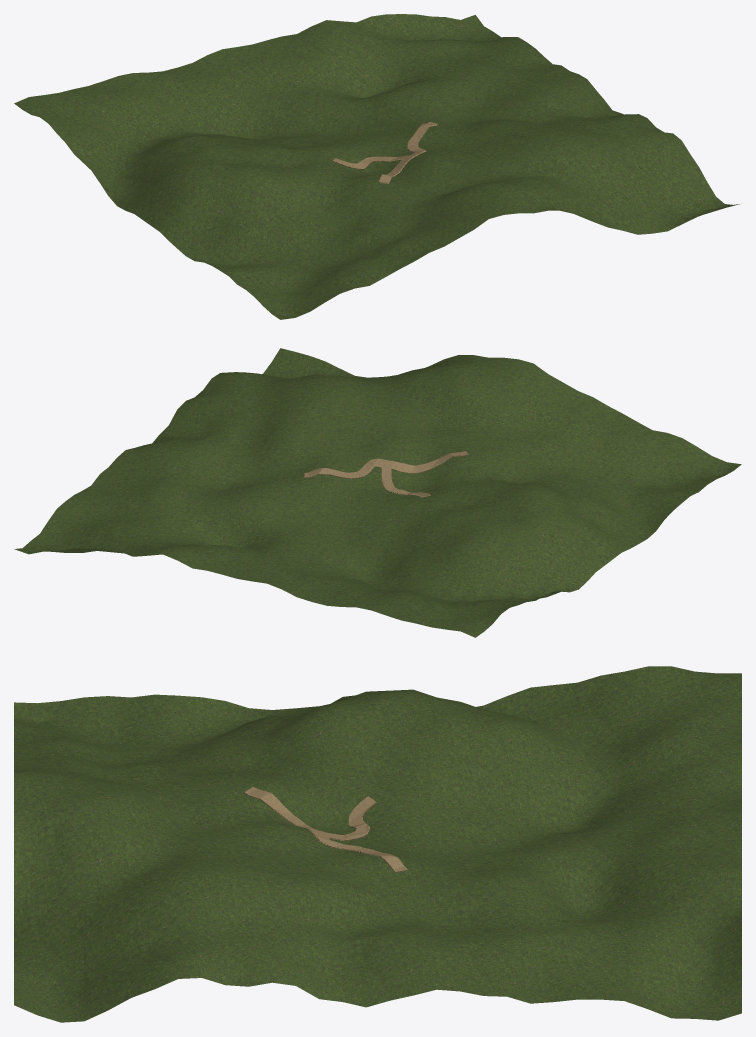
The model's file is Level3B1.fbx.
3 renders of one model, top to bottom at view 1: azimuth 30°, elevation 25°; view 2: azimuth 150°, elevation 25°; view 3: azimuth 270°, elevation 25°, orthographic. The views are drawn at different scales.
Parts seen in each view (by area): view 1: Landscape, Plane; view 2: Landscape, Plane; view 3: Landscape, Plane, Plane.001.
Boxes of the visible parts, x1,y1,x2,y2 form: Landscape: (14,14,739,319); Plane: (378,122,438,183); Landscape: (14,348,741,637); Plane: (304,451,468,478); Landscape: (14,666,741,1022); Plane: (243,787,408,872); Plane.001: (324,796,376,840).
Size of the model in its own units: 17912 by 2304 by 17912.
